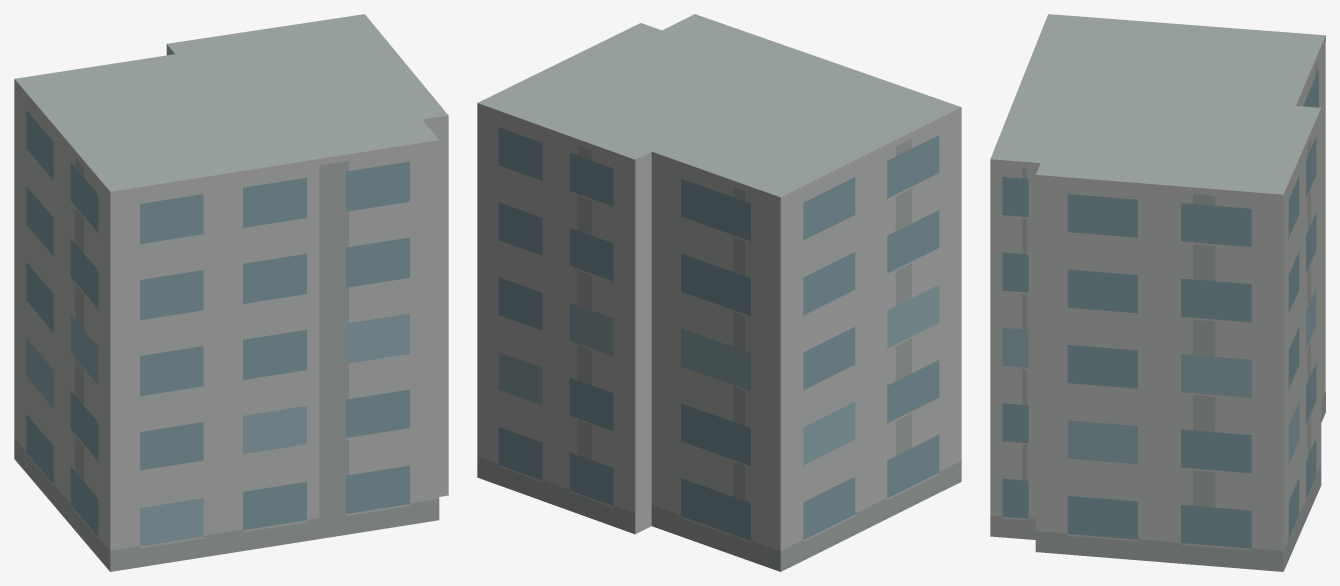
The model's file is survey-upis-32892866.glb.
3 views of the same model, side by side, from view 1: azimuth 30°, elevation 25°; view 2: azimuth 150°, elevation 25°; view 3: azimuth 270°, elevation 25° (orthographic).
Parts seen in each view (by area): view 1: survey-upis-32892866.tmp; view 2: survey-upis-32892866.tmp; view 3: survey-upis-32892866.tmp.
Part boxes in pixels (x1,y1,x2,y2): survey-upis-32892866.tmp: [14, 14, 448, 571]; survey-upis-32892866.tmp: [477, 14, 961, 571]; survey-upis-32892866.tmp: [990, 14, 1325, 571].
Size of the model in its own units: 14.39 by 14 by 11.29.
